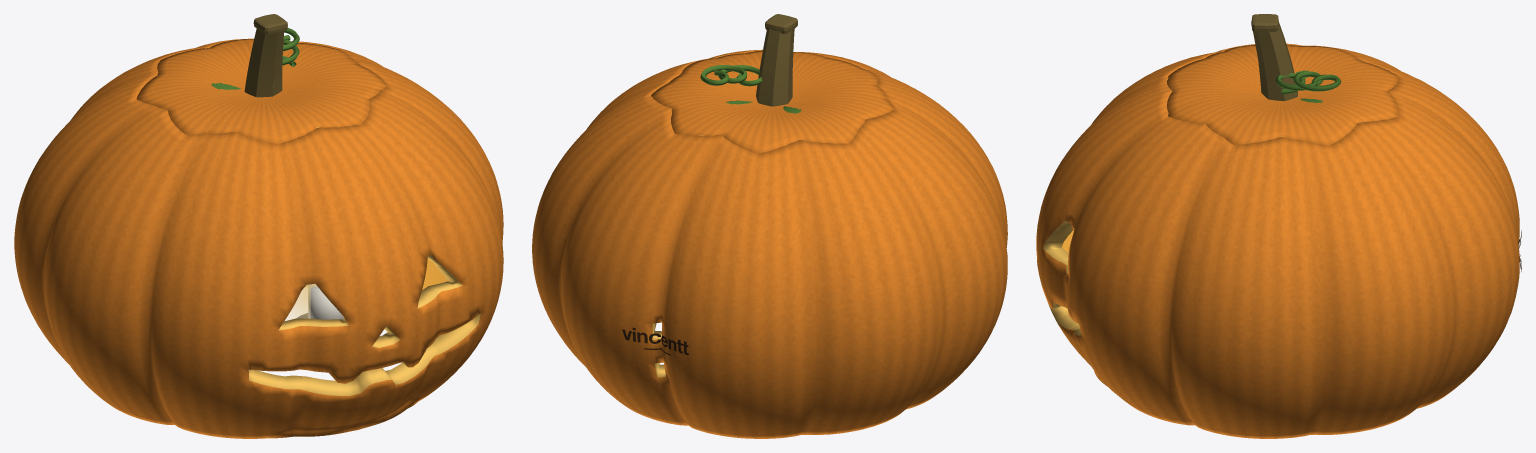
File: vincentt-jack-o-lantern-hat.glb
The picture shows the model from 3 angles, left to right: view 1: azimuth 30°, elevation 25°; view 2: azimuth 150°, elevation 25°; view 3: azimuth 270°, elevation 25°; orthographic projection. The views are drawn at different scales.
Visible parts, largest first — view 1: pump_body_classic, pump_lid_shell, pump_stem, pump_candle, pump_leaves, pump_glow_mesh; view 2: pump_body_classic, pump_lid_shell, pump_stem, pump_leaves, pump_logo; view 3: pump_body_classic, pump_lid_shell, pump_stem, pump_leaves.
Part boxes in pixels (left/top/right/bottom): pump_body_classic: left=14, top=38, right=503, bottom=438; pump_lid_shell: left=136, top=39, right=387, bottom=144; pump_stem: left=244, top=14, right=287, bottom=97; pump_candle: left=296, top=284, right=343, bottom=319; pump_leaves: left=211, top=28, right=299, bottom=89; pump_glow_mesh: left=285, top=283, right=316, bottom=320; pump_body_classic: left=532, top=49, right=1007, bottom=438; pump_lid_shell: left=651, top=50, right=894, bottom=153; pump_stem: left=756, top=14, right=797, bottom=106; pump_leaves: left=700, top=65, right=801, bottom=113; pump_logo: left=622, top=327, right=688, bottom=355; pump_body_classic: left=1036, top=43, right=1519, bottom=438; pump_lid_shell: left=1167, top=45, right=1398, bottom=145; pump_stem: left=1251, top=14, right=1297, bottom=101; pump_leaves: left=1275, top=70, right=1341, bottom=102.
Size of what is drawn, in the model's own units: 0.2979 by 0.2321 by 0.2968.
9 materials, 3 textured.
